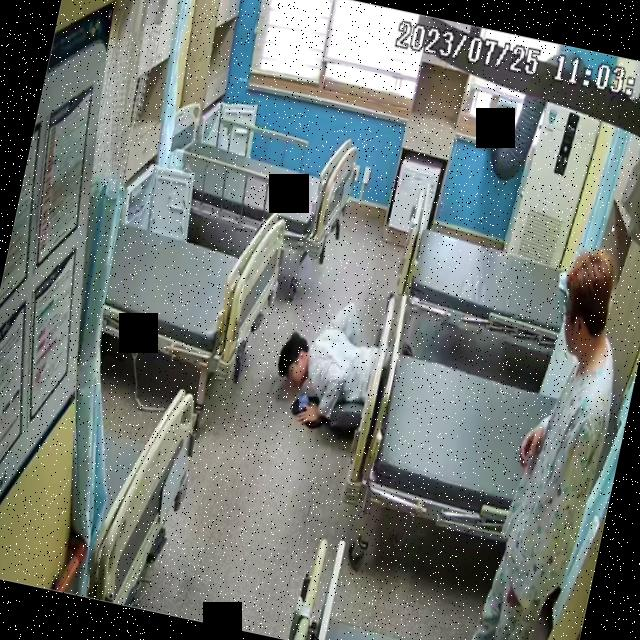bed: (338, 287, 632, 558), (388, 171, 602, 363), (96, 185, 291, 381), (170, 112, 358, 258)
fall: (266, 289, 400, 439)
patient: (465, 243, 640, 640), (264, 288, 404, 442)
stand: (465, 246, 640, 640)
